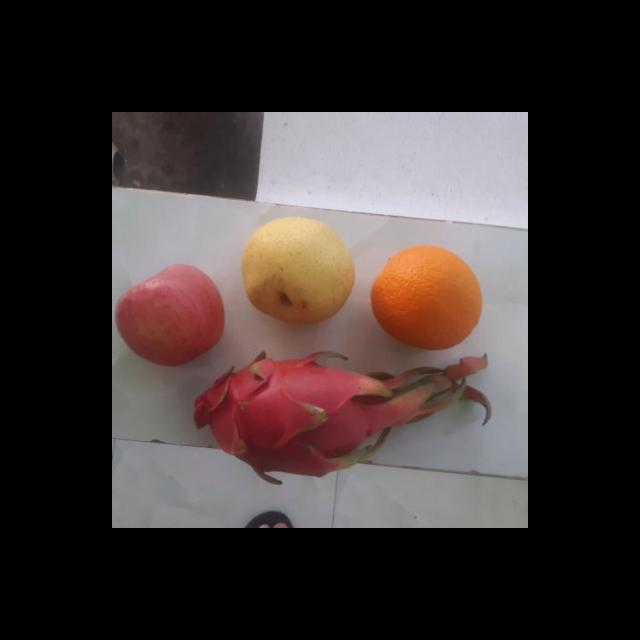apple: (112, 264, 224, 366)
orange: (368, 242, 486, 348)
pear: (236, 217, 360, 326)
pitaya: (181, 352, 398, 468)
